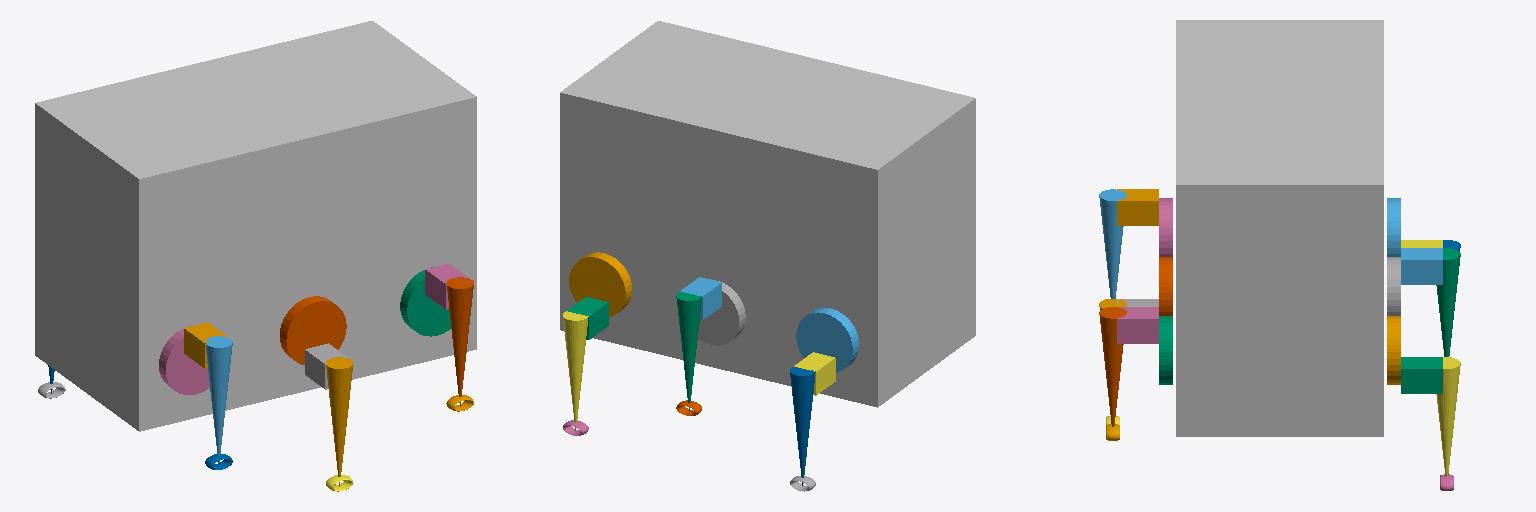
The robot description file, URDF, robot "oruga":
<robot name="oruga" version="1.0">
  <joint name="Cone.001_link_joint" type="fixed">
    <origin rpy="3.14159 -0.00000 3.14159" xyz="0.00000 -0.01800 -0.04000"/>
    <parent link="Cube.002_link"/>
    <child link="Cone.001_link"/>
  </joint>
  <joint name="Cone.002_link_joint" type="fixed">
    <origin rpy="3.14159 -0.00000 3.14159" xyz="0.00000 -0.01800 -0.04000"/>
    <parent link="Cube.004_link"/>
    <child link="Cone.002_link"/>
  </joint>
  <joint name="Cone.003_link_joint" type="fixed">
    <origin rpy="3.14159 -0.00000 3.14159" xyz="0.00000 0.01800 -0.04000"/>
    <parent link="Cube.005_link"/>
    <child link="Cone.003_link"/>
  </joint>
  <joint name="Cone.004_link_joint" type="fixed">
    <origin rpy="3.14159 -0.00000 3.14159" xyz="0.00000 0.01800 -0.04000"/>
    <parent link="Cube.006_link"/>
    <child link="Cone.004_link"/>
  </joint>
  <joint name="Cone.005_link_joint" type="fixed">
    <origin rpy="3.14159 -0.00000 3.14159" xyz="0.00000 0.01800 -0.04000"/>
    <parent link="Cube.007_link"/>
    <child link="Cone.005_link"/>
  </joint>
  <joint name="Cone_link_joint" type="fixed">
    <origin rpy="3.14159 -0.00000 3.14159" xyz="0.00000 -0.01800 -0.04000"/>
    <parent link="Cube.001_link"/>
    <child link="Cone_link"/>
  </joint>
  <joint name="Cube.001_link_joint" type="fixed">
    <origin rpy="-1.57080 0.00000 0.00000" xyz="0.00000 0.02000 0.02000"/>
    <parent link="Cylinder_link"/>
    <child link="Cube.001_link"/>
  </joint>
  <joint name="Cube.002_link_joint" type="fixed">
    <origin rpy="-1.57080 0.00000 0.00000" xyz="0.00000 -0.02000 0.02000"/>
    <parent link="Cylinder.001_link"/>
    <child link="Cube.002_link"/>
  </joint>
  <joint name="Cube.004_link_joint" type="fixed">
    <origin rpy="-1.57080 0.00000 0.00000" xyz="-0.00000 0.02000 0.02000"/>
    <parent link="Cylinder.002_link"/>
    <child link="Cube.004_link"/>
  </joint>
  <joint name="Cube.005_link_joint" type="fixed">
    <origin rpy="-1.57080 0.00000 0.00000" xyz="0.00000 0.02000 -0.02000"/>
    <parent link="Cylinder.003_link"/>
    <child link="Cube.005_link"/>
  </joint>
  <joint name="Cube.006_link_joint" type="fixed">
    <origin rpy="-1.57080 0.00000 0.00000" xyz="0.00000 -0.02000 -0.02000"/>
    <parent link="Cylinder.004_link"/>
    <child link="Cube.006_link"/>
  </joint>
  <joint name="Cube.007_link_joint" type="fixed">
    <origin rpy="-1.57080 0.00000 0.00000" xyz="-0.00000 -0.02000 -0.02000"/>
    <parent link="Cylinder.005_link"/>
    <child link="Cube.007_link"/>
  </joint>
  <joint name="Cylinder.001_link_joint" type="continuous">
    <limit lower="0" upper="0" effort="100.00000" velocity="100.00000"/>
    <origin rpy="1.57080 0.00000 0.00000" xyz="0.00000 -0.08200 -0.05000"/>
    <parent link="Cube_link"/>
    <child link="Cylinder.001_link"/>
    <axis xyz="0.00000 0.00000 1.00000"/>
  </joint>
  <joint name="Cylinder.002_link_joint" type="continuous">
    <limit lower="0" upper="0" effort="100.00000" velocity="100.00000"/>
    <origin rpy="1.57080 0.00000 0.00000" xyz="-0.10000 -0.08200 -0.05000"/>
    <parent link="Cube_link"/>
    <child link="Cylinder.002_link"/>
    <axis xyz="0.00000 0.00000 1.00000"/>
  </joint>
  <joint name="Cylinder.003_link_joint" type="continuous">
    <limit lower="0" upper="0" effort="100.00000" velocity="100.00000"/>
    <origin rpy="1.57080 0.00000 0.00000" xyz="0.00000 0.08200 -0.05000"/>
    <parent link="Cube_link"/>
    <child link="Cylinder.003_link"/>
    <axis xyz="0.00000 0.00000 1.00000"/>
  </joint>
  <joint name="Cylinder.004_link_joint" type="continuous">
    <limit lower="0" upper="0" effort="100.00000" velocity="100.00000"/>
    <origin rpy="1.57080 0.00000 0.00000" xyz="0.10000 0.08200 -0.05000"/>
    <parent link="Cube_link"/>
    <child link="Cylinder.004_link"/>
    <axis xyz="0.00000 0.00000 1.00000"/>
  </joint>
  <joint name="Cylinder.005_link_joint" type="continuous">
    <limit lower="0" upper="0" effort="100.00000" velocity="100.00000"/>
    <origin rpy="1.57080 0.00000 0.00000" xyz="-0.10000 0.08200 -0.05000"/>
    <parent link="Cube_link"/>
    <child link="Cylinder.005_link"/>
    <axis xyz="0.00000 0.00000 1.00000"/>
  </joint>
  <joint name="Cylinder_link_joint" type="continuous">
    <limit lower="0" upper="0" effort="100.00000" velocity="100.00000"/>
    <origin rpy="1.57080 0.00000 0.00000" xyz="0.10000 -0.08200 -0.05000"/>
    <parent link="Cube_link"/>
    <child link="Cylinder_link"/>
    <axis xyz="0.00000 0.00000 1.00000"/>
  </joint>
  <joint name="Torus.001_link_joint" type="fixed">
    <origin rpy="-1.57080 -1.57080 -3.14159" xyz="-0.00000 0.00000 0.04500"/>
    <parent link="Cone.001_link"/>
    <child link="Torus.001_link"/>
  </joint>
  <joint name="Torus.002_link_joint" type="fixed">
    <origin rpy="-1.57080 -1.57080 -3.14159" xyz="0.00000 0.00000 0.04500"/>
    <parent link="Cone.002_link"/>
    <child link="Torus.002_link"/>
  </joint>
  <joint name="Torus.003_link_joint" type="fixed">
    <origin rpy="-1.57080 -1.57080 -3.14159" xyz="-0.00000 0.00000 0.04500"/>
    <parent link="Cone.003_link"/>
    <child link="Torus.003_link"/>
  </joint>
  <joint name="Torus.004_link_joint" type="fixed">
    <origin rpy="-1.57080 -1.57080 -3.14159" xyz="0.00000 0.00000 0.04500"/>
    <parent link="Cone.004_link"/>
    <child link="Torus.004_link"/>
  </joint>
  <joint name="Torus.005_link_joint" type="fixed">
    <origin rpy="-1.57080 -1.57080 -3.14159" xyz="-0.00000 0.00000 0.04500"/>
    <parent link="Cone.005_link"/>
    <child link="Torus.005_link"/>
  </joint>
  <joint name="Torus_link_joint" type="fixed">
    <origin rpy="1.57080 -1.57080 3.14159" xyz="0.00000 0.00000 0.04500"/>
    <parent link="Cone_link"/>
    <child link="Torus_link"/>
  </joint>
  <link name="Cone.001_link">
    <inertial>
      <inertia ixx="0.00001" ixy="0.00000" ixz="-0.00000" iyy="0.00001" iyz="0.00000" izz="0.00000"/>
      <origin rpy="0.00000 0.00000 0.00000" xyz="0.00000 0.00000 -0.02500"/>
      <mass value="0.01000"/>
    </inertial>
    <visual name="Cone.001">
      <origin rpy="0.00000 -0.00000 0.00000" xyz="-0.00000 0.00000 0.00000"/>
      <geometry>
        <mesh filename="../meshes/dae/Cone.001.dae" scale="0.01000 0.01000 0.05000"/>
      </geometry>
    </visual>
  </link>
  <link name="Cone.002_link">
    <inertial>
      <inertia ixx="0.00001" ixy="0.00000" ixz="-0.00000" iyy="0.00001" iyz="0.00000" izz="0.00000"/>
      <origin rpy="0.00000 0.00000 0.00000" xyz="0.00000 0.00000 -0.02500"/>
      <mass value="0.01000"/>
    </inertial>
    <visual name="Cone.002">
      <origin rpy="0.00000 -0.00000 0.00000" xyz="0.00000 0.00000 0.00000"/>
      <geometry>
        <mesh filename="../meshes/dae/Cone.002.dae" scale="0.01000 0.01000 0.05000"/>
      </geometry>
    </visual>
  </link>
  <link name="Cone.003_link">
    <inertial>
      <inertia ixx="0.00001" ixy="0.00000" ixz="-0.00000" iyy="0.00001" iyz="0.00000" izz="0.00000"/>
      <origin rpy="0.00000 0.00000 0.00000" xyz="0.00000 0.00000 -0.02500"/>
      <mass value="0.01000"/>
    </inertial>
    <visual name="Cone.003">
      <origin rpy="0.00000 -0.00000 0.00000" xyz="0.00000 0.00000 0.00000"/>
      <geometry>
        <mesh filename="../meshes/dae/Cone.003.dae" scale="0.01000 0.01000 0.05000"/>
      </geometry>
    </visual>
  </link>
  <link name="Cone.004_link">
    <inertial>
      <inertia ixx="0.00001" ixy="0.00000" ixz="-0.00000" iyy="0.00001" iyz="0.00000" izz="0.00000"/>
      <origin rpy="0.00000 0.00000 0.00000" xyz="0.00000 0.00000 -0.02500"/>
      <mass value="0.01000"/>
    </inertial>
    <visual name="Cone.004">
      <origin rpy="0.00000 -0.00000 0.00000" xyz="0.00000 0.00000 0.00000"/>
      <geometry>
        <mesh filename="../meshes/dae/Cone.004.dae" scale="0.01000 0.01000 0.05000"/>
      </geometry>
    </visual>
  </link>
  <link name="Cone.005_link">
    <inertial>
      <inertia ixx="0.00001" ixy="0.00000" ixz="-0.00000" iyy="0.00001" iyz="0.00000" izz="0.00000"/>
      <origin rpy="0.00000 0.00000 0.00000" xyz="0.00000 0.00000 -0.02500"/>
      <mass value="0.01000"/>
    </inertial>
    <visual name="Cone.005">
      <origin rpy="0.00000 -0.00000 0.00000" xyz="0.00000 0.00000 0.00000"/>
      <geometry>
        <mesh filename="../meshes/dae/Cone.005.dae" scale="0.01000 0.01000 0.05000"/>
      </geometry>
    </visual>
  </link>
  <link name="Cone_link">
    <inertial>
      <inertia ixx="0.00001" ixy="0.00000" ixz="-0.00000" iyy="0.00001" iyz="0.00000" izz="0.00000"/>
      <origin rpy="0.00000 0.00000 0.00000" xyz="0.00000 0.00000 -0.00000"/>
      <mass value="0.01000"/>
    </inertial>
    <visual name="Cone">
      <origin rpy="0.00000 -0.00000 0.00000" xyz="0.00000 0.00000 0.00000"/>
      <geometry>
        <mesh filename="../meshes/dae/Cone.dae" scale="0.01000 0.01000 0.05000"/>
      </geometry>
    </visual>
  </link>
  <link name="Cube.001_link">
    <inertial>
      <inertia ixx="0.00000" ixy="0.00000" ixz="0.00000" iyy="0.00000" iyz="0.00000" izz="0.00000"/>
      <origin rpy="0.00000 0.00000 0.00000" xyz="0.00000 -0.00000 0.00000"/>
      <mass value="0.01000"/>
    </inertial>
    <visual name="Cube.001">
      <origin rpy="0.00000 0.00000 0.00000" xyz="0.00000 0.00000 0.00000"/>
      <geometry>
        <box size="0.02000 0.03000 0.02000"/>
      </geometry>
    </visual>
  </link>
  <link name="Cube.002_link">
    <inertial>
      <inertia ixx="0.00000" ixy="0.00000" ixz="0.00000" iyy="0.00000" iyz="0.00000" izz="0.00000"/>
      <origin rpy="0.00000 0.00000 0.00000" xyz="0.00000 -0.00000 0.00000"/>
      <mass value="0.01000"/>
    </inertial>
    <visual name="Cube.002">
      <origin rpy="0.00000 0.00000 0.00000" xyz="0.00000 0.00000 0.00000"/>
      <geometry>
        <box size="0.02000 0.03000 0.02000"/>
      </geometry>
    </visual>
  </link>
  <link name="Cube.004_link">
    <inertial>
      <inertia ixx="0.00000" ixy="0.00000" ixz="0.00000" iyy="0.00000" iyz="0.00000" izz="0.00000"/>
      <origin rpy="0.00000 0.00000 0.00000" xyz="0.00000 -0.00000 0.00000"/>
      <mass value="0.01000"/>
    </inertial>
    <visual name="Cube.004">
      <origin rpy="0.00000 0.00000 0.00000" xyz="0.00000 0.00000 0.00000"/>
      <geometry>
        <box size="0.02000 0.03000 0.02000"/>
      </geometry>
    </visual>
  </link>
  <link name="Cube.005_link">
    <inertial>
      <inertia ixx="0.00000" ixy="0.00000" ixz="0.00000" iyy="0.00000" iyz="0.00000" izz="0.00000"/>
      <origin rpy="0.00000 0.00000 0.00000" xyz="0.00000 0.00000 0.00000"/>
      <mass value="0.01000"/>
    </inertial>
    <visual name="Cube.005">
      <origin rpy="0.00000 0.00000 0.00000" xyz="0.00000 0.00000 0.00000"/>
      <geometry>
        <box size="0.02000 0.03000 0.02000"/>
      </geometry>
    </visual>
  </link>
  <link name="Cube.006_link">
    <inertial>
      <inertia ixx="0.00000" ixy="0.00000" ixz="0.00000" iyy="0.00000" iyz="0.00000" izz="0.00000"/>
      <origin rpy="0.00000 0.00000 0.00000" xyz="0.00000 0.00000 0.00000"/>
      <mass value="0.01000"/>
    </inertial>
    <visual name="Cube.006">
      <origin rpy="0.00000 0.00000 0.00000" xyz="0.00000 0.00000 0.00000"/>
      <geometry>
        <box size="0.02000 0.03000 0.02000"/>
      </geometry>
    </visual>
  </link>
  <link name="Cube.007_link">
    <inertial>
      <inertia ixx="0.00000" ixy="0.00000" ixz="0.00000" iyy="0.00000" iyz="0.00000" izz="0.00000"/>
      <origin rpy="0.00000 0.00000 0.00000" xyz="0.00000 0.00000 0.00000"/>
      <mass value="0.01000"/>
    </inertial>
    <visual name="Cube.007">
      <origin rpy="0.00000 0.00000 0.00000" xyz="0.00000 0.00000 0.00000"/>
      <geometry>
        <box size="0.02000 0.03000 0.02000"/>
      </geometry>
    </visual>
  </link>
  <link name="Cube_link">
    <collision name="Cube_collision">
      <origin rpy="0.00000 0.00000 0.00000" xyz="0.00000 0.00000 -0.00000"/>
      <geometry>
        <box size="0.28000 0.15000 0.20000"/>
      </geometry>
    </collision>
    <inertial>
      <inertia ixx="0.00521" ixy="0.00000" ixz="0.00000" iyy="0.00987" iyz="0.00000" izz="0.00841"/>
      <origin rpy="0.00000 0.00000 0.00000" xyz="0.00000 0.00000 -0.00000"/>
      <mass value="1.00000"/>
    </inertial>
    <visual name="Cube">
      <origin rpy="0.00000 0.00000 0.00000" xyz="0.00000 0.00000 -0.00000"/>
      <material name="Material"/>
      <geometry>
        <box size="0.28000 0.15000 0.20000"/>
      </geometry>
    </visual>
  </link>
  <link name="Cylinder.001_link">
    <inertial>
      <inertia ixx="0.00000" ixy="0.00000" ixz="0.00000" iyy="0.00000" iyz="0.00000" izz="0.00000"/>
      <origin rpy="0.00000 0.00000 0.00000" xyz="0.00000 -0.00000 0.00000"/>
      <mass value="0.01000"/>
    </inertial>
    <visual name="Cylinder.001">
      <origin rpy="0.00000 0.00000 0.00000" xyz="0.00000 0.00000 0.00000"/>
      <geometry>
        <cylinder radius="0.02500" length="0.01000"/>
      </geometry>
    </visual>
  </link>
  <link name="Cylinder.002_link">
    <inertial>
      <inertia ixx="0.00000" ixy="0.00000" ixz="0.00000" iyy="0.00000" iyz="0.00000" izz="0.00000"/>
      <origin rpy="0.00000 0.00000 0.00000" xyz="-0.00000 -0.00000 0.00000"/>
      <mass value="0.01000"/>
    </inertial>
    <visual name="Cylinder.002">
      <origin rpy="0.00000 0.00000 0.00000" xyz="-0.00000 0.00000 0.00000"/>
      <geometry>
        <cylinder radius="0.02500" length="0.01000"/>
      </geometry>
    </visual>
  </link>
  <link name="Cylinder.003_link">
    <inertial>
      <inertia ixx="0.00000" ixy="0.00000" ixz="0.00000" iyy="0.00000" iyz="0.00000" izz="0.00000"/>
      <origin rpy="0.00000 0.00000 0.00000" xyz="0.00000 0.00000 -0.00000"/>
      <mass value="0.01000"/>
    </inertial>
    <visual name="Cylinder.003">
      <origin rpy="0.00000 0.00000 0.00000" xyz="0.00000 0.00000 -0.00000"/>
      <geometry>
        <cylinder radius="0.02500" length="0.01000"/>
      </geometry>
    </visual>
  </link>
  <link name="Cylinder.004_link">
    <inertial>
      <inertia ixx="0.00000" ixy="0.00000" ixz="0.00000" iyy="0.00000" iyz="0.00000" izz="0.00000"/>
      <origin rpy="0.00000 0.00000 0.00000" xyz="0.00000 0.00000 -0.00000"/>
      <mass value="0.01000"/>
    </inertial>
    <visual name="Cylinder.004">
      <origin rpy="0.00000 0.00000 0.00000" xyz="0.00000 0.00000 -0.00000"/>
      <geometry>
        <cylinder radius="0.02500" length="0.01000"/>
      </geometry>
    </visual>
  </link>
  <link name="Cylinder.005_link">
    <inertial>
      <inertia ixx="0.00000" ixy="0.00000" ixz="0.00000" iyy="0.00000" iyz="0.00000" izz="0.00000"/>
      <origin rpy="0.00000 0.00000 0.00000" xyz="-0.00000 0.00000 -0.00000"/>
      <mass value="0.01000"/>
    </inertial>
    <visual name="Cylinder.005">
      <origin rpy="0.00000 0.00000 0.00000" xyz="-0.00000 0.00000 -0.00000"/>
      <geometry>
        <cylinder radius="0.02500" length="0.01000"/>
      </geometry>
    </visual>
  </link>
  <link name="Cylinder_link">
    <inertial>
      <inertia ixx="0.00000" ixy="0.00000" ixz="0.00000" iyy="0.00000" iyz="0.00000" izz="0.00000"/>
      <origin rpy="0.00000 0.00000 0.00000" xyz="0.00000 -0.00000 0.00000"/>
      <mass value="0.01000"/>
    </inertial>
    <visual name="Cylinder">
      <origin rpy="0.00000 0.00000 0.00000" xyz="0.00000 0.00000 0.00000"/>
      <geometry>
        <cylinder radius="0.02500" length="0.01000"/>
      </geometry>
    </visual>
  </link>
  <link name="Torus.001_link">
    <collision name="Torus.001_collision">
      <origin rpy="0.00000 0.00000 0.00000" xyz="0.00000 0.00000 0.00000"/>
      <geometry>
        <mesh filename="../meshes/dae/Torus.001.dae" scale="0.00400 0.00800 0.02000"/>
      </geometry>
    </collision>
    <inertial>
      <inertia ixx="0.00000" ixy="0.00000" ixz="0.00000" iyy="0.00000" iyz="0.00000" izz="0.00000"/>
      <origin rpy="0.00000 0.00000 0.00000" xyz="0.00000 -0.00000 0.00000"/>
      <mass value="0.01000"/>
    </inertial>
    <visual name="Torus.001">
      <origin rpy="0.00000 0.00000 -0.00000" xyz="0.00000 0.00000 0.00000"/>
      <geometry>
        <mesh filename="../meshes/dae/Torus.001.dae" scale="0.00400 0.00800 0.02000"/>
      </geometry>
    </visual>
  </link>
  <link name="Torus.002_link">
    <collision name="Torus.002_collision">
      <origin rpy="0.00000 0.00000 0.00000" xyz="-0.00000 0.00000 0.00000"/>
      <geometry>
        <mesh filename="../meshes/dae/Torus.002.dae" scale="0.00400 0.00800 0.02000"/>
      </geometry>
    </collision>
    <inertial>
      <inertia ixx="0.00000" ixy="0.00000" ixz="0.00000" iyy="0.00000" iyz="0.00000" izz="0.00000"/>
      <origin rpy="0.00000 0.00000 0.00000" xyz="-0.00000 0.00000 0.00000"/>
      <mass value="0.01000"/>
    </inertial>
    <visual name="Torus.002">
      <origin rpy="0.00000 0.00000 -0.00000" xyz="-0.00000 0.00000 0.00000"/>
      <geometry>
        <mesh filename="../meshes/dae/Torus.002.dae" scale="0.00400 0.00800 0.02000"/>
      </geometry>
    </visual>
  </link>
  <link name="Torus.003_link">
    <collision name="Torus.003_collision">
      <origin rpy="0.00000 0.00000 0.00000" xyz="0.00000 0.00000 0.00000"/>
      <geometry>
        <mesh filename="../meshes/dae/Torus.003.dae" scale="0.00400 0.00800 0.02000"/>
      </geometry>
    </collision>
    <inertial>
      <inertia ixx="0.00000" ixy="0.00000" ixz="0.00000" iyy="0.00000" iyz="0.00000" izz="0.00000"/>
      <origin rpy="0.00000 0.00000 0.00000" xyz="0.00000 -0.00000 0.00000"/>
      <mass value="0.01000"/>
    </inertial>
    <visual name="Torus.003">
      <origin rpy="0.00000 0.00000 -0.00000" xyz="0.00000 0.00000 0.00000"/>
      <geometry>
        <mesh filename="../meshes/dae/Torus.003.dae" scale="0.00400 0.00800 0.02000"/>
      </geometry>
    </visual>
  </link>
  <link name="Torus.004_link">
    <collision name="Torus.004_collision">
      <origin rpy="0.00000 0.00000 0.00000" xyz="-0.00000 0.00000 0.00000"/>
      <geometry>
        <mesh filename="../meshes/dae/Torus.004.dae" scale="0.00400 0.00800 0.02000"/>
      </geometry>
    </collision>
    <inertial>
      <inertia ixx="0.00000" ixy="0.00000" ixz="0.00000" iyy="0.00000" iyz="0.00000" izz="0.00000"/>
      <origin rpy="0.00000 0.00000 0.00000" xyz="-0.00000 0.00000 0.00000"/>
      <mass value="0.01000"/>
    </inertial>
    <visual name="Torus.004">
      <origin rpy="0.00000 0.00000 -0.00000" xyz="-0.00000 0.00000 0.00000"/>
      <geometry>
        <mesh filename="../meshes/dae/Torus.004.dae" scale="0.00400 0.00800 0.02000"/>
      </geometry>
    </visual>
  </link>
  <link name="Torus.005_link">
    <collision name="Torus.005_collision">
      <origin rpy="0.00000 0.00000 0.00000" xyz="-0.00000 0.00000 0.00000"/>
      <geometry>
        <mesh filename="../meshes/dae/Torus.005.dae" scale="0.00400 0.00800 0.02000"/>
      </geometry>
    </collision>
    <inertial>
      <inertia ixx="0.00000" ixy="0.00000" ixz="0.00000" iyy="0.00000" iyz="0.00000" izz="0.00000"/>
      <origin rpy="0.00000 0.00000 0.00000" xyz="0.00000 0.00000 0.00000"/>
      <mass value="0.01000"/>
    </inertial>
    <visual name="Torus.005">
      <origin rpy="0.00000 0.00000 -0.00000" xyz="-0.00000 0.00000 0.00000"/>
      <geometry>
        <mesh filename="../meshes/dae/Torus.005.dae" scale="0.00400 0.00800 0.02000"/>
      </geometry>
    </visual>
  </link>
  <link name="Torus_link">
    <collision name="Torus_collision">
      <origin rpy="-0.00000 0.00000 -0.00000" xyz="-0.00000 -0.00000 -0.00000"/>
      <geometry>
        <mesh filename="../meshes/dae/Torus.dae" scale="0.00400 0.00800 0.02000"/>
      </geometry>
    </collision>
    <inertial>
      <inertia ixx="0.00000" ixy="-0.00000" ixz="0.00000" iyy="0.00000" iyz="-0.00000" izz="0.00000"/>
      <origin rpy="0.00000 0.00000 0.00000" xyz="-0.00000 -0.00000 -0.00000"/>
      <mass value="0.01000"/>
    </inertial>
    <visual name="Torus">
      <origin rpy="-0.00000 0.00000 0.00000" xyz="-0.00000 -0.00000 -0.00000"/>
      <geometry>
        <mesh filename="../meshes/dae/Torus.dae" scale="0.00400 0.00800 0.02000"/>
      </geometry>
    </visual>
  </link>
  <material name="Material">
    <color rgba="0.80000 0.80000 0.80000 1.00000"/>
  </material>
</robot>

--- Render facts (derived) ---
Views: 3 orthographic renders of the robot side by side, from view 1: azimuth 30°, elevation 25°; view 2: azimuth 150°, elevation 25°; view 3: azimuth 270°, elevation 25°.
Robot: oruga — 25 links, 24 joints (6 continuous, 18 fixed); root link Cube_link; default pose: all joints at 0.
Visible links, largest first — view 1: Cube_link, Cylinder.001_link, Cylinder.002_link, Cylinder_link, Cone_link, Cone.001_link, Cone.002_link, Cube.001_link, Cube.004_link, Cube.002_link; view 2: Cube_link, Cylinder.005_link, Cylinder.004_link, Cylinder.003_link, Cone.005_link, Cone.003_link, Cone.004_link, Cube.006_link, Cube.007_link, Cube.005_link; view 3: Cube_link, Cone_link, Cone.002_link, Cone.004_link, Cube.005_link, Cube.006_link, Cone.003_link, Cube.004_link, Cube.001_link, Cylinder.004_link, Cylinder_link, Cylinder.001_link (+3 smaller).
Boxes of the visible links, left/top/right/bottom form: Cube_link: left=35, top=21, right=476, bottom=431; Cylinder.001_link: left=280, top=296, right=346, bottom=364; Cylinder.002_link: left=159, top=326, right=209, bottom=394; Cylinder_link: left=400, top=267, right=450, bottom=336; Cone_link: left=446, top=277, right=473, bottom=406; Cone.001_link: left=326, top=357, right=352, bottom=486; Cone.002_link: left=205, top=336, right=232, bottom=463; Cube.001_link: left=425, top=264, right=469, bottom=309; Cube.004_link: left=184, top=322, right=228, bottom=368; Cube.002_link: left=305, top=343, right=348, bottom=389; Cube_link: left=560, top=21, right=975, bottom=407; Cylinder.005_link: left=796, top=308, right=858, bottom=372; Cylinder.004_link: left=569, top=252, right=631, bottom=316; Cylinder.003_link: left=698, top=280, right=745, bottom=345; Cone.005_link: left=790, top=367, right=815, bottom=485; Cone.003_link: left=676, top=291, right=701, bottom=411; Cone.004_link: left=563, top=311, right=588, bottom=430; Cube.006_link: left=567, top=297, right=608, bottom=339; Cube.007_link: left=793, top=352, right=835, bottom=395; Cube.005_link: left=681, top=277, right=721, bottom=319; Cube_link: left=1176, top=20, right=1383, bottom=436; Cone_link: left=1099, top=307, right=1126, bottom=426; Cone.002_link: left=1099, top=189, right=1126, bottom=298; Cone.004_link: left=1436, top=357, right=1460, bottom=476; Cube.005_link: left=1401, top=248, right=1442, bottom=284; Cube.006_link: left=1401, top=357, right=1442, bottom=393; Cone.003_link: left=1436, top=248, right=1460, bottom=356; Cube.004_link: left=1117, top=189, right=1158, bottom=225; Cube.001_link: left=1117, top=307, right=1158, bottom=343; Cylinder.004_link: left=1387, top=316, right=1400, bottom=384; Cylinder_link: left=1159, top=316, right=1172, bottom=384; Cylinder.001_link: left=1159, top=257, right=1172, bottom=315.
Bounding box of the posed robot: 0.28 × 0.26 × 0.26 m (x, y, z).
Meshes: 12 distinct files referenced, 12 mesh visuals loaded (12 Collada DAE).
